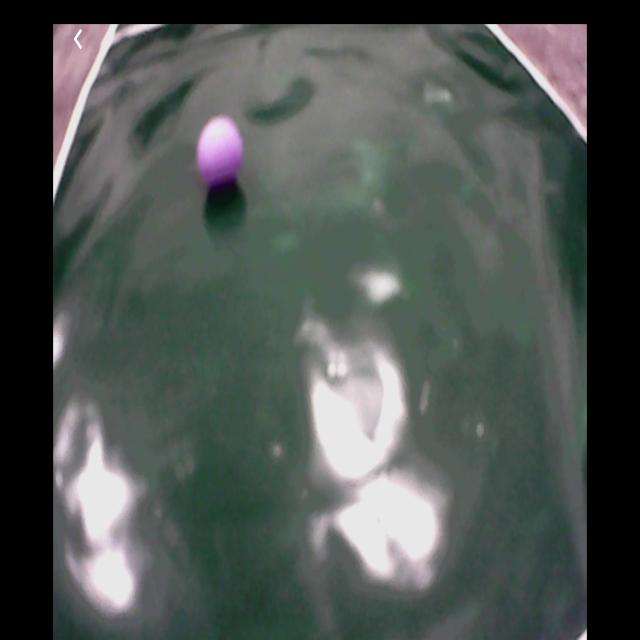ball: (196, 115, 244, 192)
